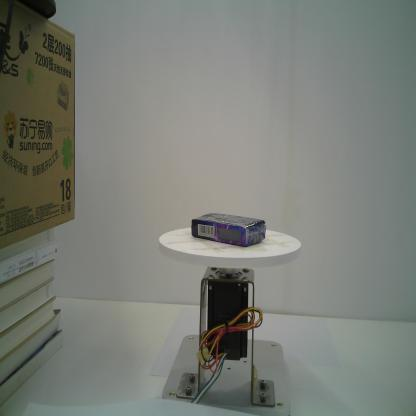Gum: (191, 212, 267, 247)
